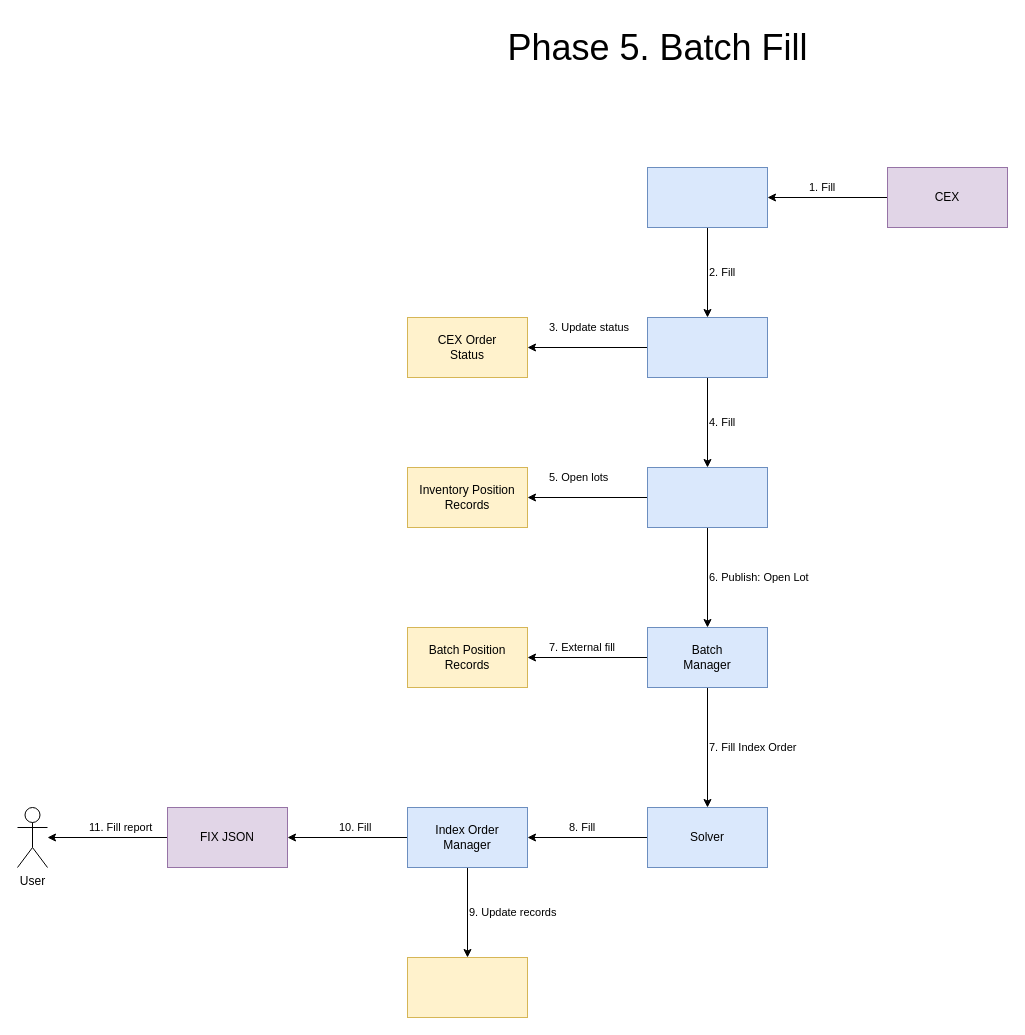
Image size: 1025x1035. Some labels were removed from this diagram. The shapes that lost their labels are listed below. From the top down, each one's centre as x and y in pixels, then its label:
(x=707, y=197): Order Connector
(x=707, y=347): Order Tracker
(x=707, y=497): Inventory Manager
(x=467, y=987): Index Order Records
